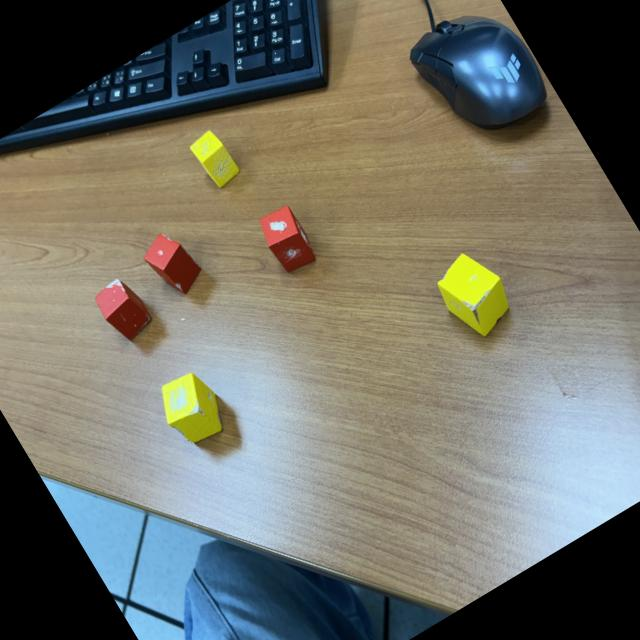broken: (423, 238, 524, 348), (147, 361, 235, 454), (134, 222, 210, 304), (252, 198, 324, 279), (86, 270, 160, 348), (186, 125, 245, 192)
